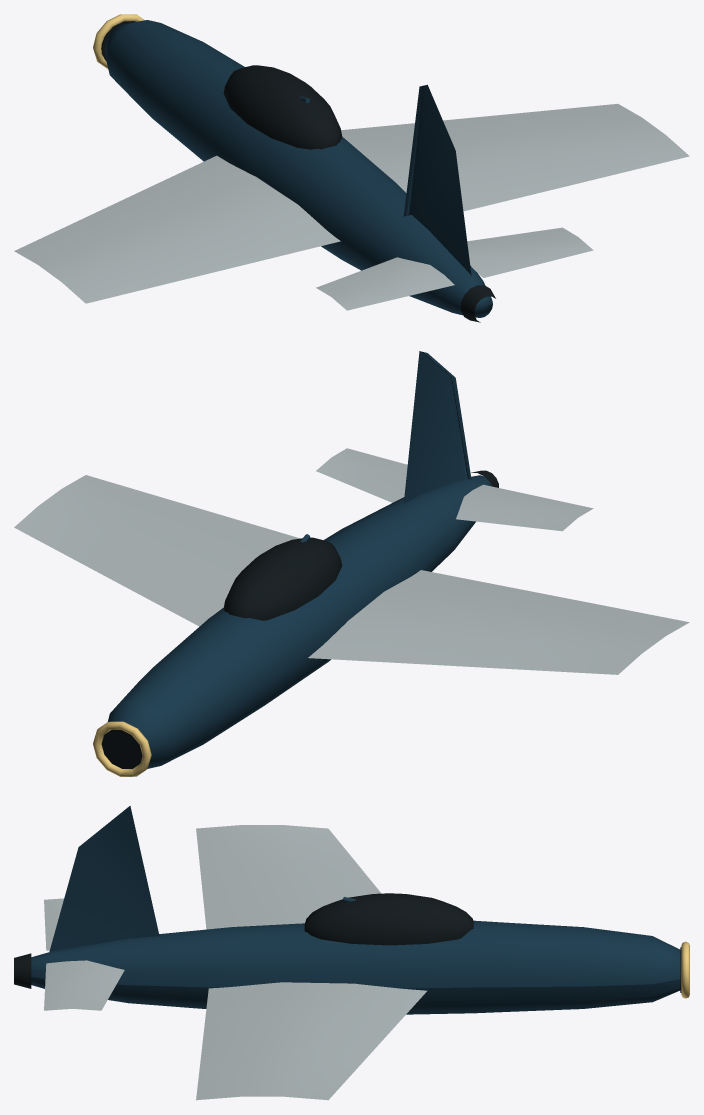
3 views of the same model, one above another, from view 1: azimuth 30°, elevation 25°; view 2: azimuth 150°, elevation 25°; view 3: azimuth 270°, elevation 25° (orthographic). The views are drawn at different scales.
Visible parts, largest first — view 1: MainWings, Fuselage, Tailplanes, VerticalFin, Canopy, IntakeLip, ExhaustNozzle; view 2: MainWings, Fuselage, Tailplanes, VerticalFin, Canopy, IntakeLip, NoseIntake; view 3: Fuselage, MainWings, VerticalFin, Canopy, Tailplanes, ExhaustNozzle, IntakeLip.
Part boxes in pixels (x1,y1,x2,y2): MainWings: [14, 103, 689, 303]; Fuselage: [105, 20, 492, 317]; Tailplanes: [316, 227, 593, 310]; VerticalFin: [403, 84, 471, 275]; Canopy: [223, 65, 342, 149]; IntakeLip: [93, 14, 144, 68]; ExhaustNozzle: [461, 285, 495, 322]; MainWings: [14, 475, 689, 674]; Fuselage: [108, 475, 491, 768]; Tailplanes: [316, 448, 593, 531]; VerticalFin: [403, 351, 471, 503]; Canopy: [223, 537, 342, 620]; IntakeLip: [93, 721, 151, 776]; NoseIntake: [101, 729, 142, 768]; Fuselage: [31, 920, 680, 1014]; MainWings: [196, 825, 427, 1100]; VerticalFin: [49, 806, 159, 951]; Canopy: [304, 893, 473, 945]; Tailplanes: [44, 898, 124, 1010]; ExhaustNozzle: [14, 953, 31, 988]; IntakeLip: [681, 941, 689, 998].
Bounding box in the file's own units: 11.16 × 3.9 × 11.74.
